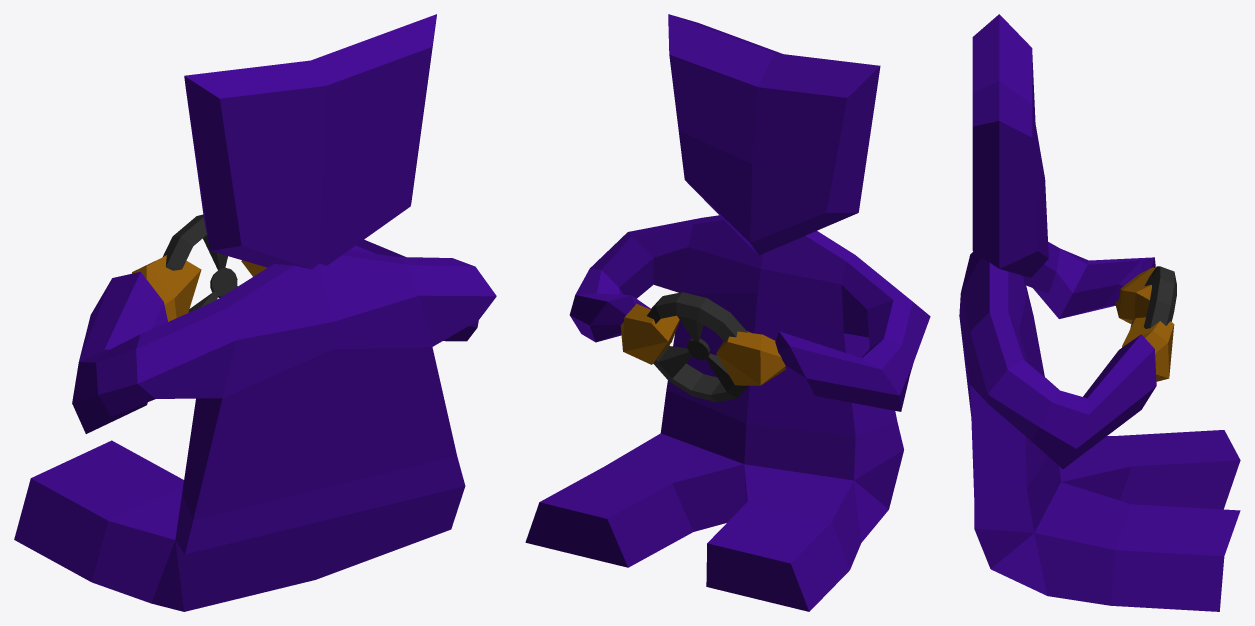
The model's file is character-parsche-sport-green_1 1.fbx.
3 renders of one model, left to right at view 1: azimuth 30°, elevation 25°; view 2: azimuth 150°, elevation 25°; view 3: azimuth 270°, elevation 25°, orthographic. The views are drawn at different scales.
Visible parts, largest first — view 1: body_1, head_1; view 2: body_1, head_1; view 3: body_1, head_1.
Part boxes in pixels (x1,y1,x2,y2): body_1: [14, 214, 496, 611]; head_1: [184, 14, 436, 269]; body_1: [525, 215, 930, 611]; head_1: [668, 14, 880, 255]; body_1: [959, 242, 1240, 611]; head_1: [972, 14, 1048, 277].
Bounding box in the file's own units: 0.7986 × 0.5718 × 1.06.
